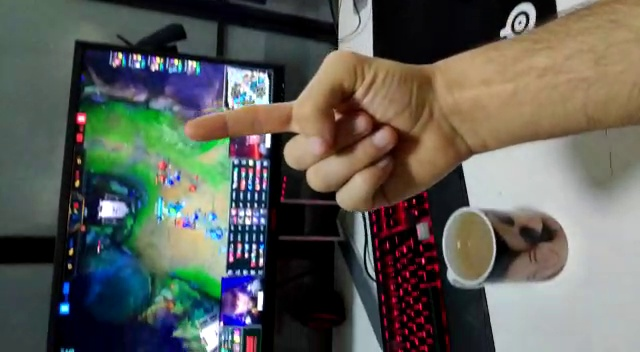One: (181, 41, 434, 203)
